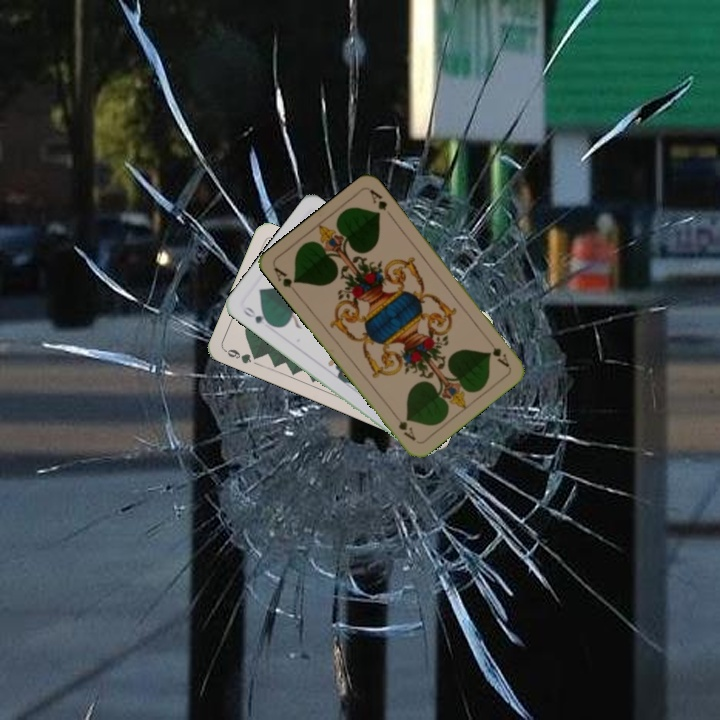G9: (221, 345, 262, 366)
GA: (270, 263, 300, 297), (484, 335, 512, 370)
GO: (239, 302, 275, 328)
